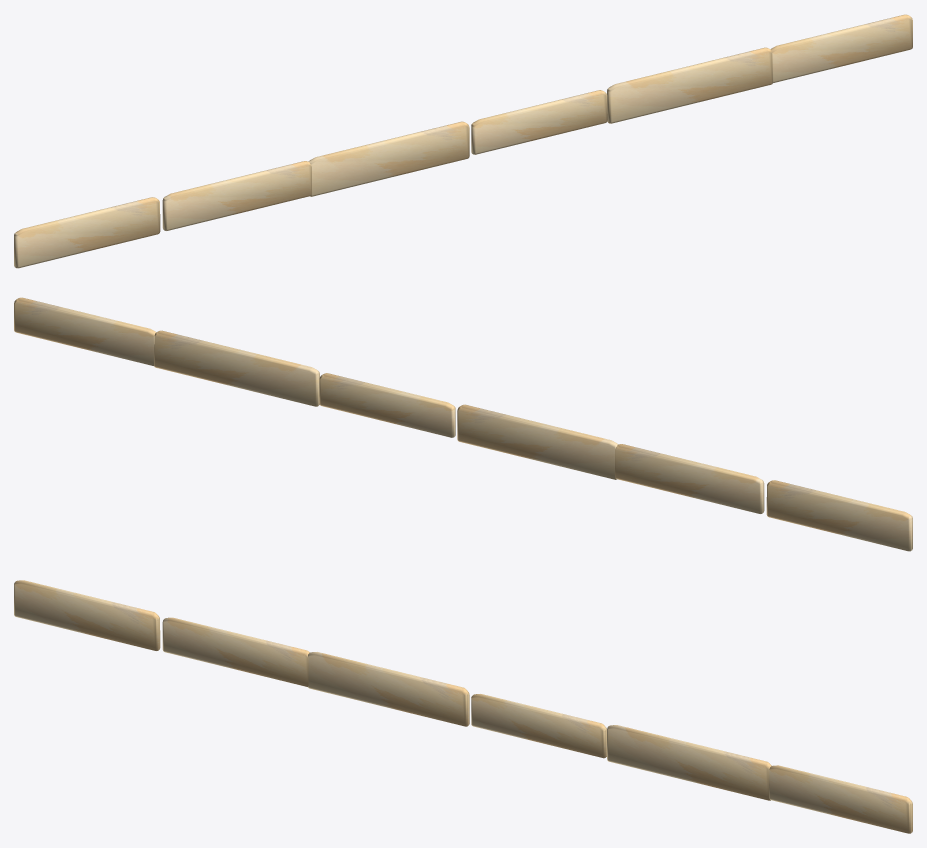
Rendered from CM_HR02_StoopFace.fbx.
3 views of the same model, one above another, from view 1: azimuth 30°, elevation 25°; view 2: azimuth 150°, elevation 25°; view 3: azimuth 330°, elevation 25° (orthographic).
Visible parts, largest first — view 1: CM_HR02_StoopFace; view 2: CM_HR02_StoopFace; view 3: CM_HR02_StoopFace.
Boxes of the visible parts, x1,y1,x2,y2 form: CM_HR02_StoopFace: [14, 14, 912, 268]; CM_HR02_StoopFace: [14, 297, 912, 551]; CM_HR02_StoopFace: [14, 580, 912, 833].
Bounding box in the file's own units: 4.52 × 0.18 × 0.03.
